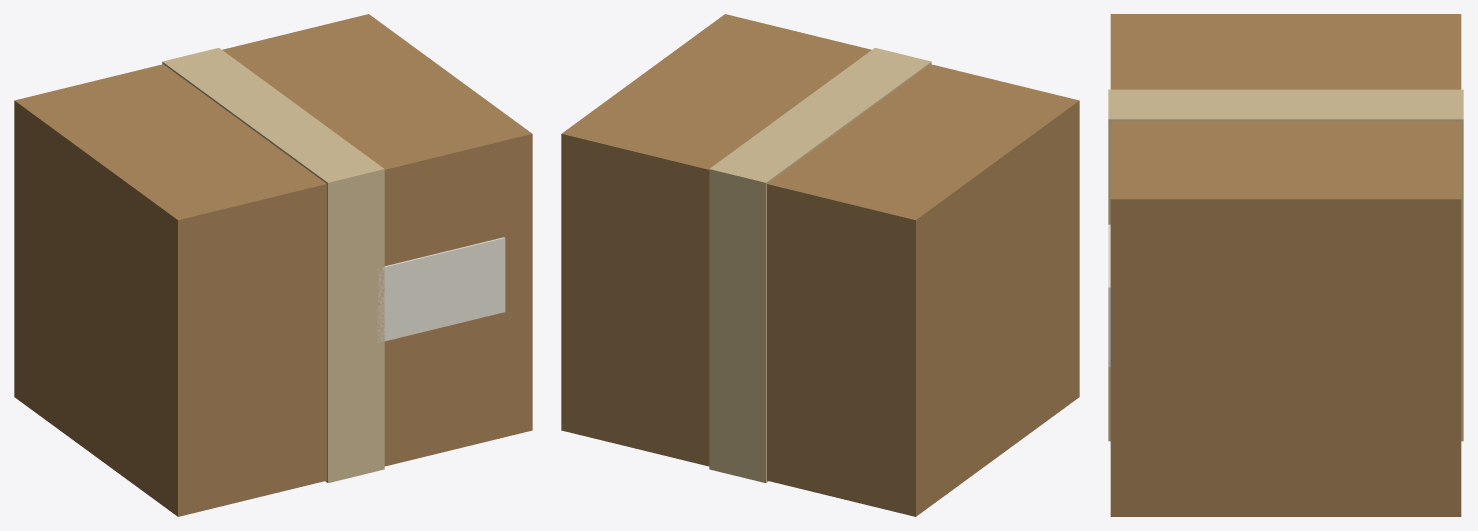
File: storage_box.glb
3 views of the same model, side by side, from view 1: azimuth 30°, elevation 25°; view 2: azimuth 150°, elevation 25°; view 3: azimuth 270°, elevation 25° (orthographic). The views are drawn at different scales.
Parts seen in each view (by area): view 1: box_box_card, tape_box_tape, label_box_label; view 2: box_box_card, tape_box_tape; view 3: box_box_card, tape_box_tape, label_box_label.
Part boxes in pixels (x1,y1,x2,y2): box_box_card: [14, 14, 532, 516]; tape_box_tape: [162, 48, 384, 482]; label_box_label: [377, 237, 505, 342]; box_box_card: [561, 14, 1079, 516]; tape_box_tape: [709, 48, 931, 482]; box_box_card: [1110, 14, 1461, 516]; tape_box_tape: [1108, 89, 1463, 441]; label_box_label: [1108, 224, 1110, 366].
Size of the model in its own units: 0.5 by 0.405 by 0.405.
